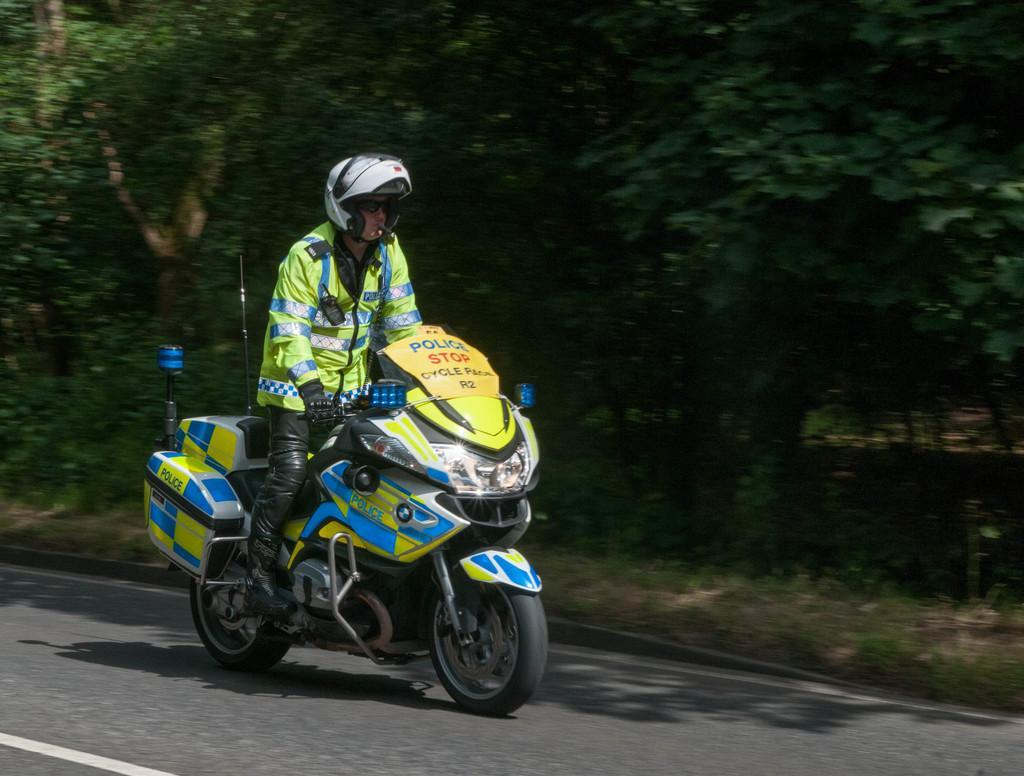helmet: (323, 151, 414, 246)
